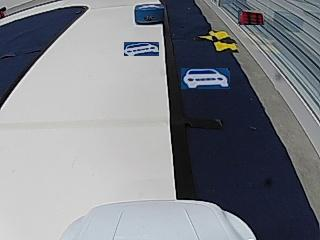prop: (135, 3, 164, 24)
